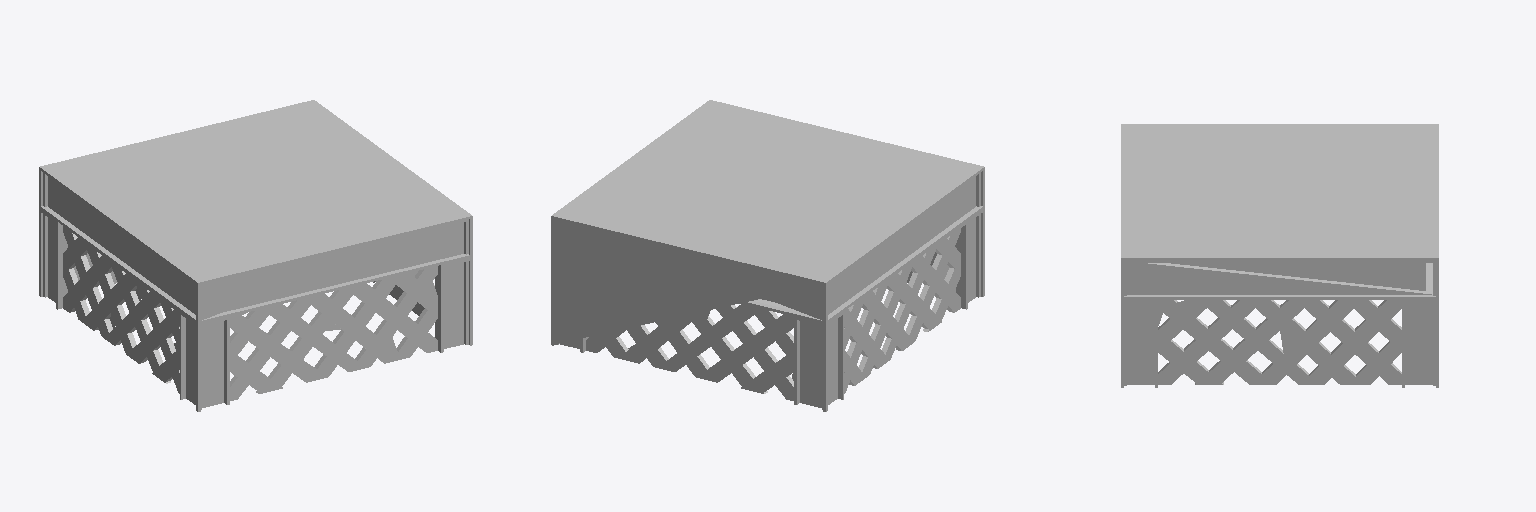
Rendered from Half_Crate__100142_.obj.
The picture shows the model from 3 angles: view 1: azimuth 30°, elevation 25°; view 2: azimuth 150°, elevation 25°; view 3: azimuth 270°, elevation 25°; orthographic projection.
Parts seen in each view (by area): view 1: Half_Crate__100142__temp_Half_Crate__100142_.004; view 2: Half_Crate__100142__temp_Half_Crate__100142_.004; view 3: Half_Crate__100142__temp_Half_Crate__100142_.004.
Part boxes in pixels (bbox=[...]): Half_Crate__100142__temp_Half_Crate__100142_.004: bbox=[39, 100, 472, 411]; Half_Crate__100142__temp_Half_Crate__100142_.004: bbox=[551, 100, 984, 411]; Half_Crate__100142__temp_Half_Crate__100142_.004: bbox=[1121, 124, 1438, 387].
Bounding box in the file's own units: 0.3334 × 0.15 × 0.3334.